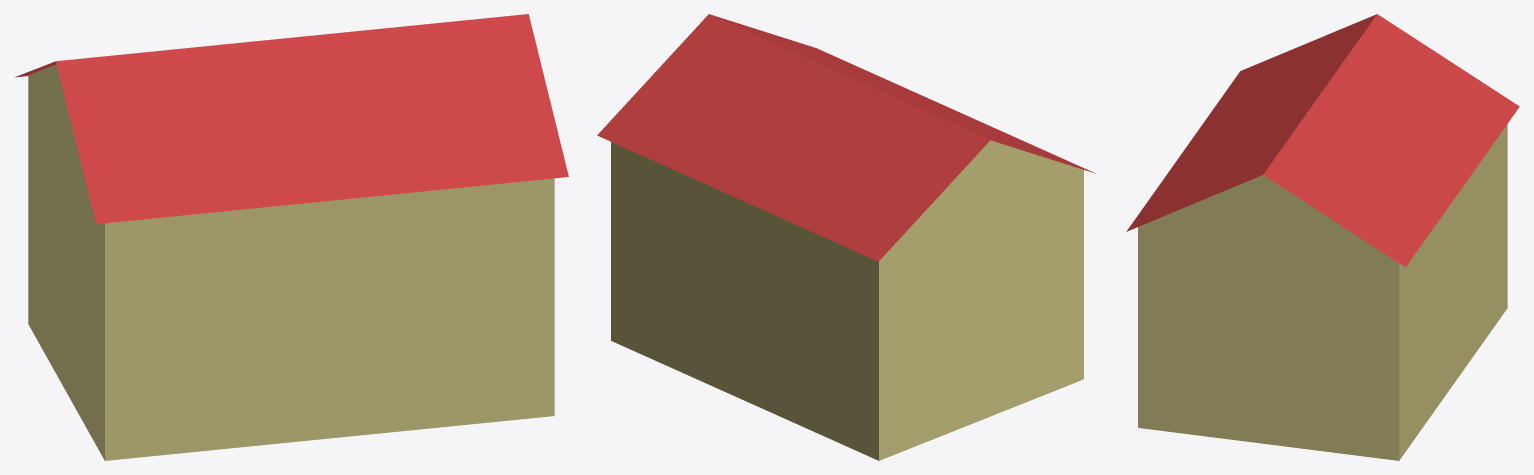
The picture shows the model from 3 angles, left to right: view 1: azimuth 30°, elevation 25°; view 2: azimuth 150°, elevation 25°; view 3: azimuth 270°, elevation 25°; orthographic projection. The views are drawn at different scales.
Visible parts, largest first — view 1: group_5, group_3, group_4; view 2: group_5, group_3, group_4; view 3: group_5, group_3, group_4.
Part boxes in pixels (x1,y1,x2,y2): group_5: (28, 64, 554, 460); group_3: (56, 14, 568, 223); group_4: (15, 14, 537, 179); group_5: (611, 140, 1083, 460); group_3: (599, 14, 1095, 261); group_4: (597, 14, 1053, 167); group_5: (1138, 124, 1507, 460); group_3: (1126, 14, 1519, 266); group_4: (1200, 14, 1432, 266).
Bounding box in the file's own units: 24.01 × 20.35 × 15.58.
